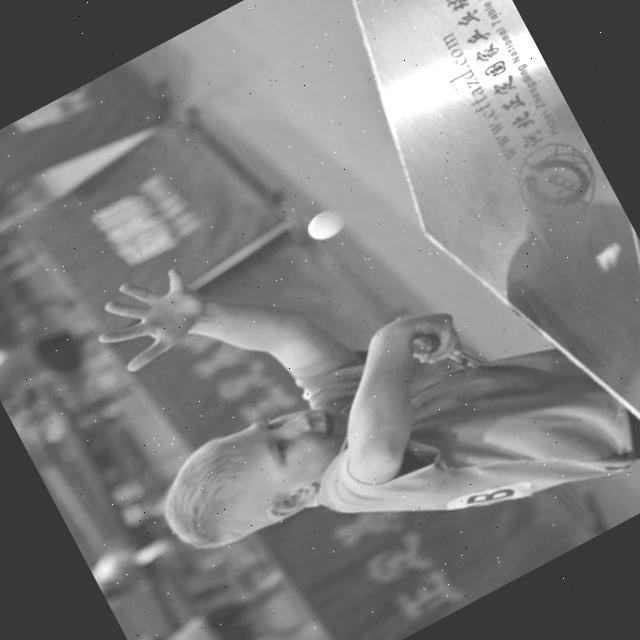ping-pong-ball: (294, 196, 355, 252)
